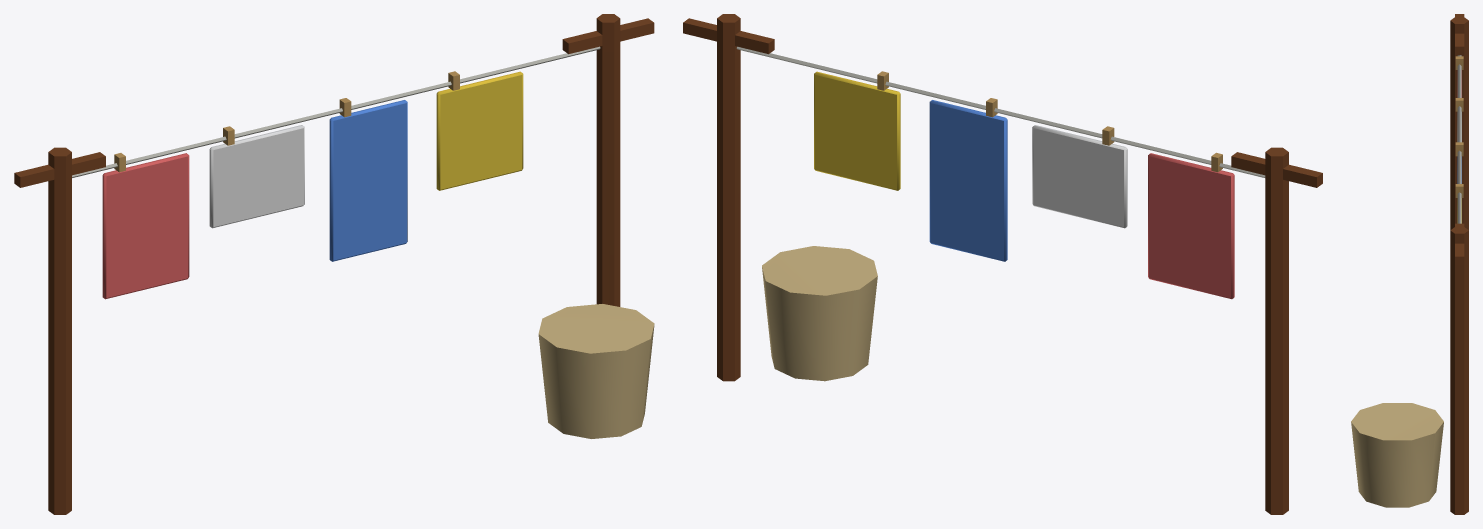
The model's file is b_waesche.glb.
The picture shows the model from 3 angles, left to right: view 1: azimuth 30°, elevation 25°; view 2: azimuth 150°, elevation 25°; view 3: azimuth 270°, elevation 25°; orthographic projection. The views are drawn at different scales.
Visible parts, largest first — view 1: sway_laundry, body; view 2: sway_laundry, body; view 3: body, sway_laundry.
Boxes of the visible parts, x1=… form: sway_laundry: x1=102, y1=71, x2=523, y2=299; body: x1=14, y1=14, x2=654, y2=514; sway_laundry: x1=814, y1=71, x2=1234, y2=299; body: x1=683, y1=14, x2=1322, y2=514; body: x1=1351, y1=14, x2=1468, y2=514; sway_laundry: x1=1455, y1=56, x2=1463, y2=223.
Bounding box in the file's own units: 3.7 × 2 × 0.76.
